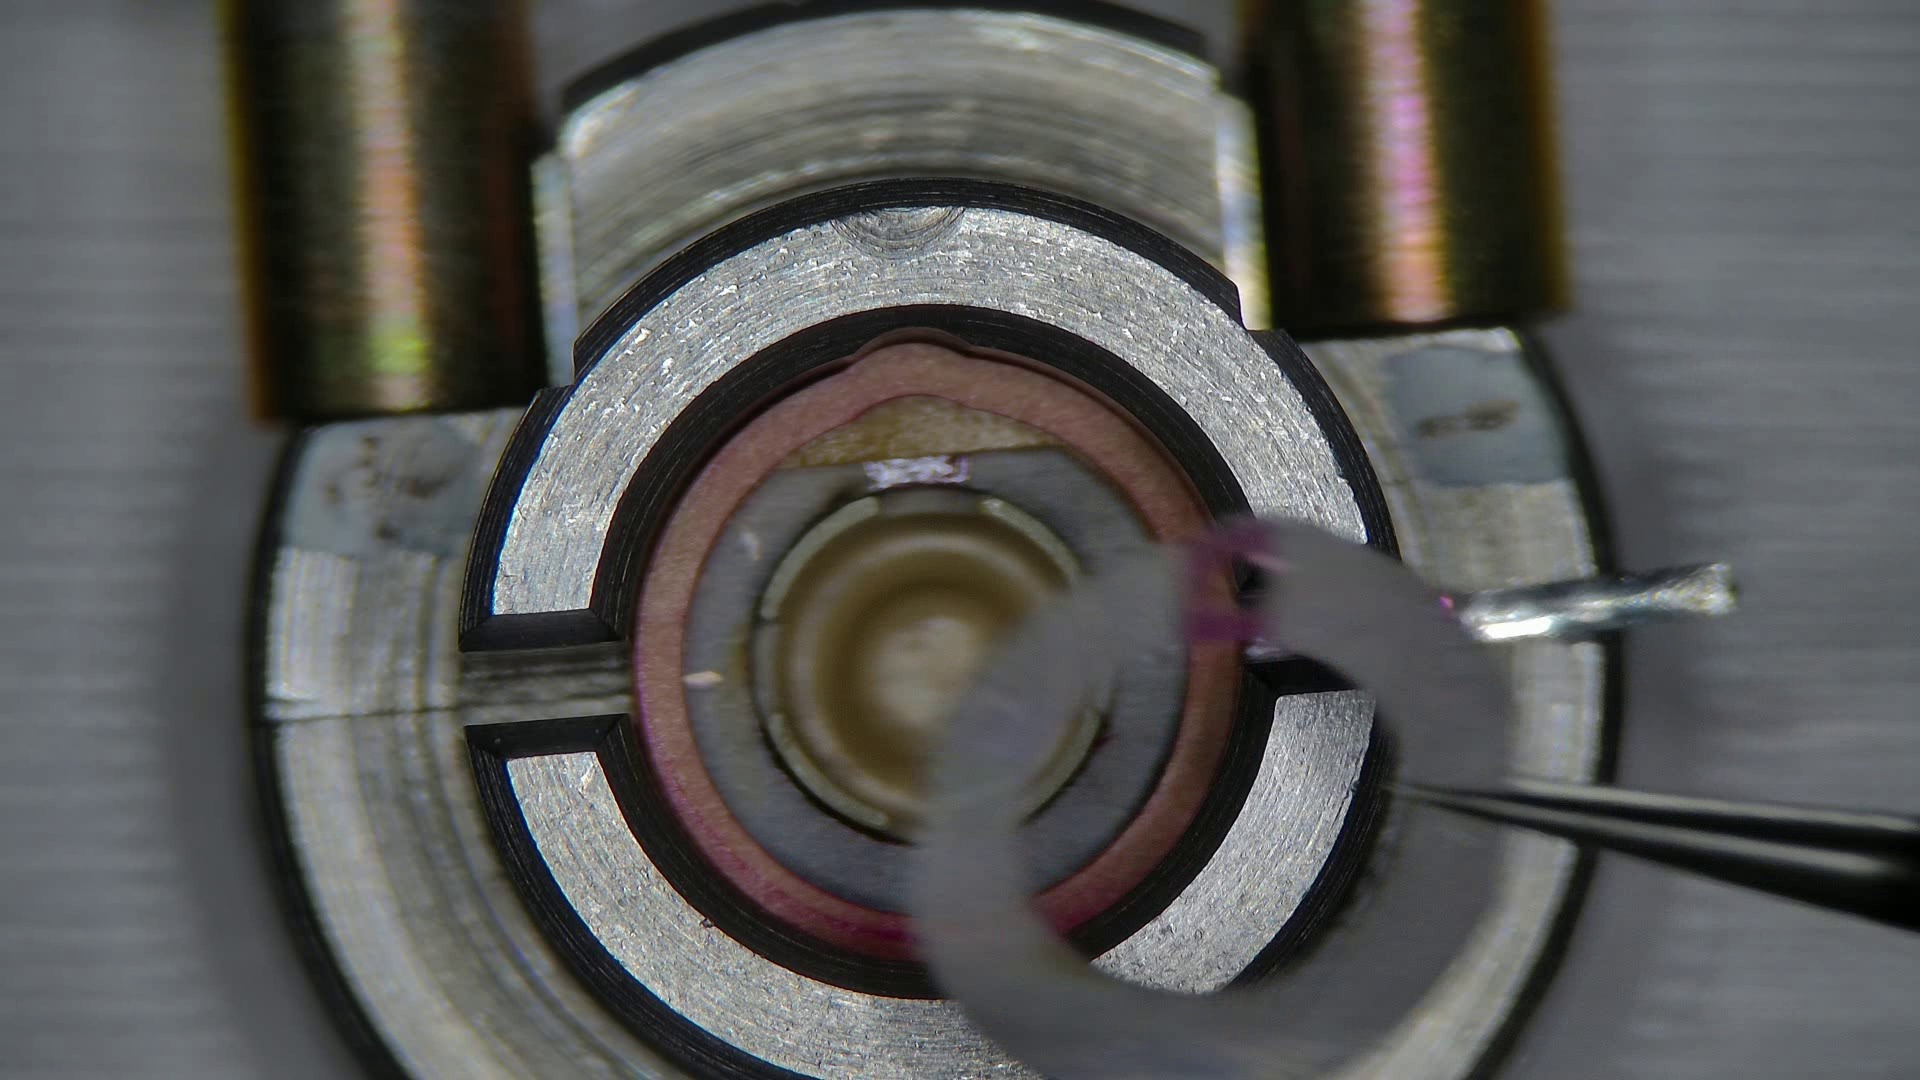GreyOring: (633, 342, 1232, 952)
YellowOring: (926, 521, 1509, 1079), (688, 454, 1160, 916), (1011, 671, 1185, 899)
redOring: (785, 397, 1062, 460)
